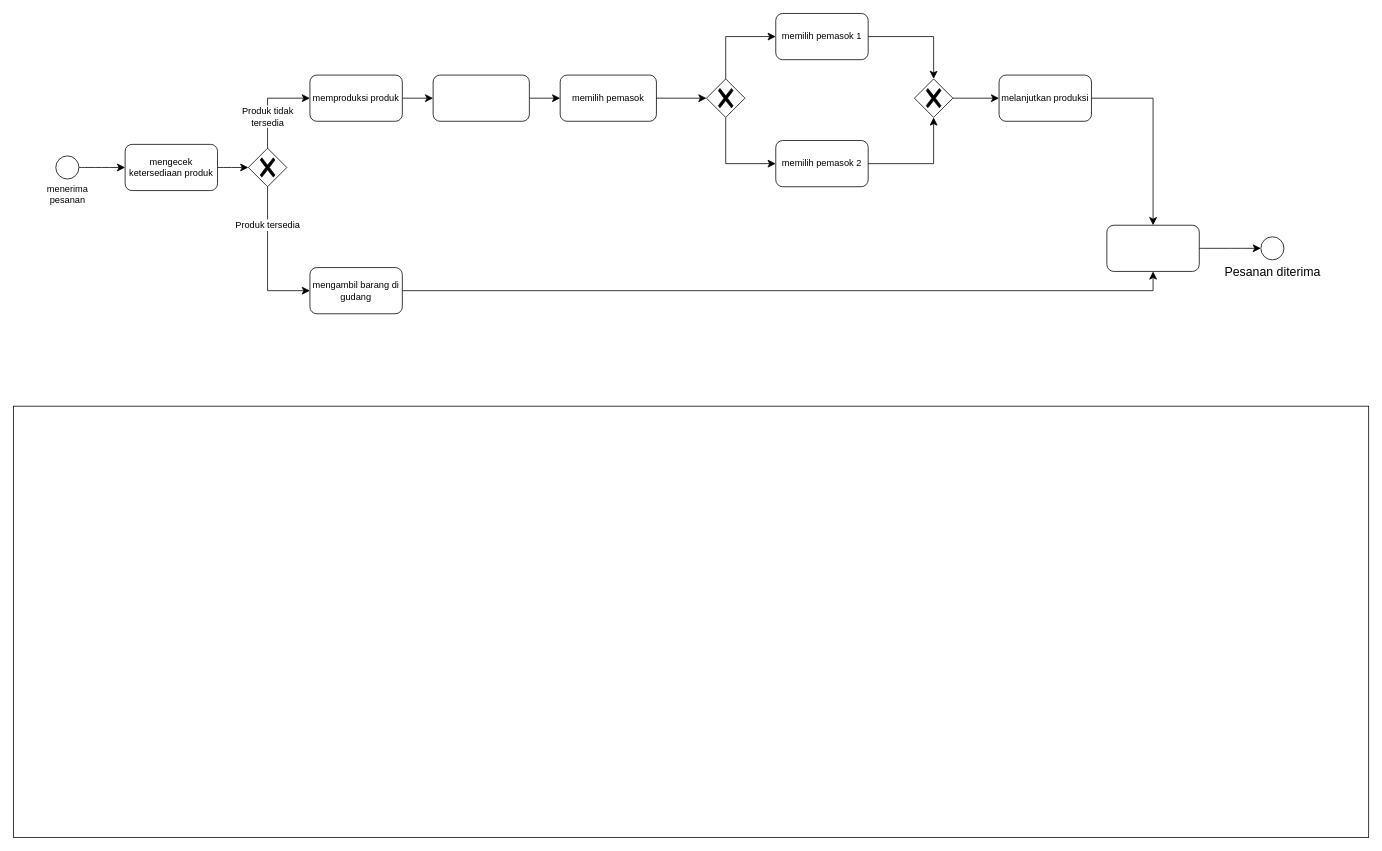
The diagram is 1382 pixels wide and 851 high, and some of its shapes have lost their labels. Here are the shapes that lost their labels. From the top down, the centre of each, then its label:
(480,97): memesan stok bahan
(1152,247): memproses pemesanan
